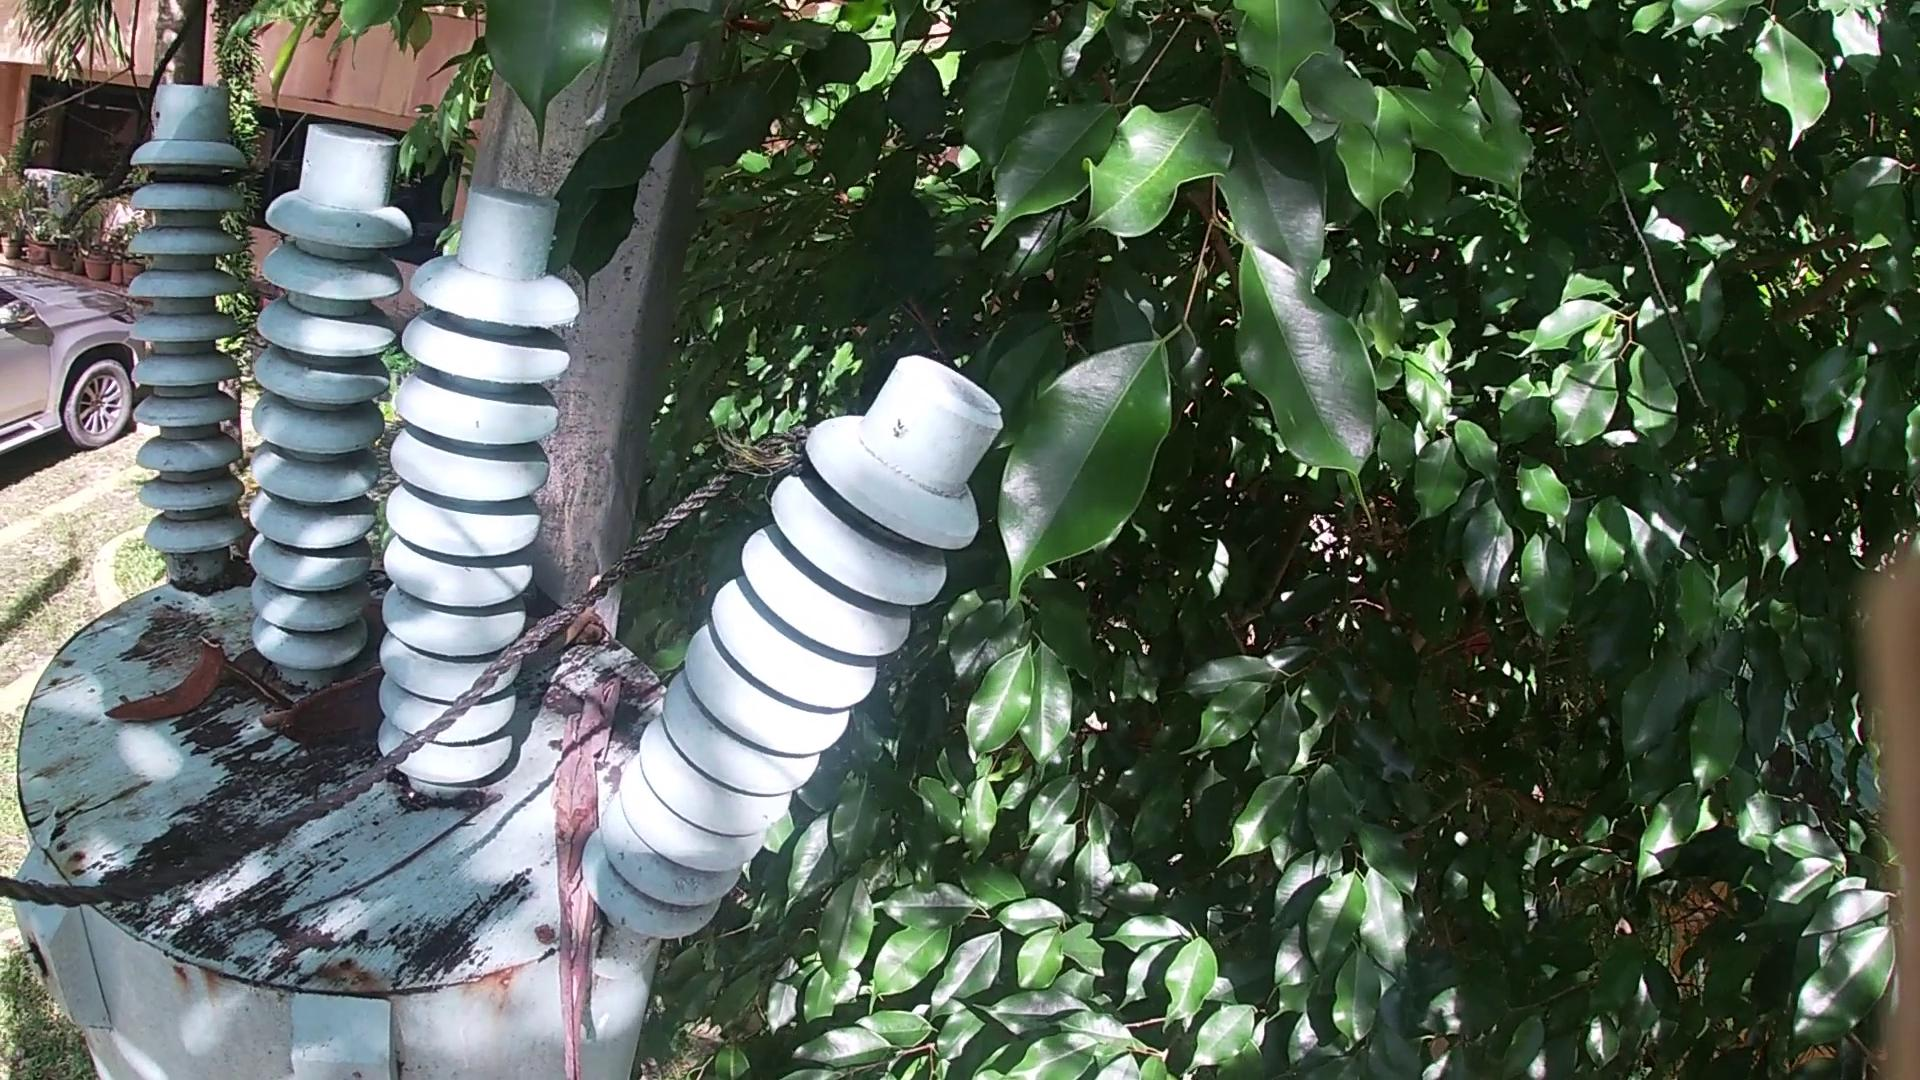leaf: (233, 655, 287, 707)
mahogany fruit: (90, 636, 225, 742), (277, 676, 381, 742)
tree branch: (236, 789, 517, 948), (531, 670, 640, 1077), (531, 572, 611, 655), (245, 709, 281, 731)
